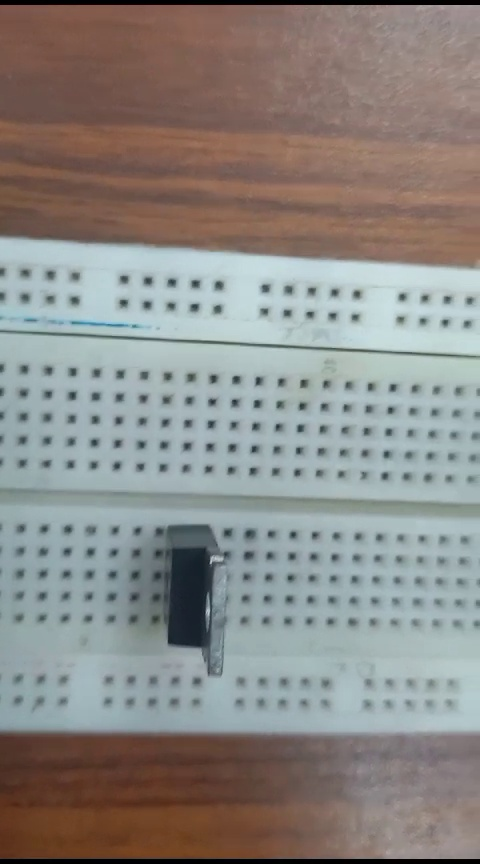voltage regulator: (148, 512, 229, 687)
